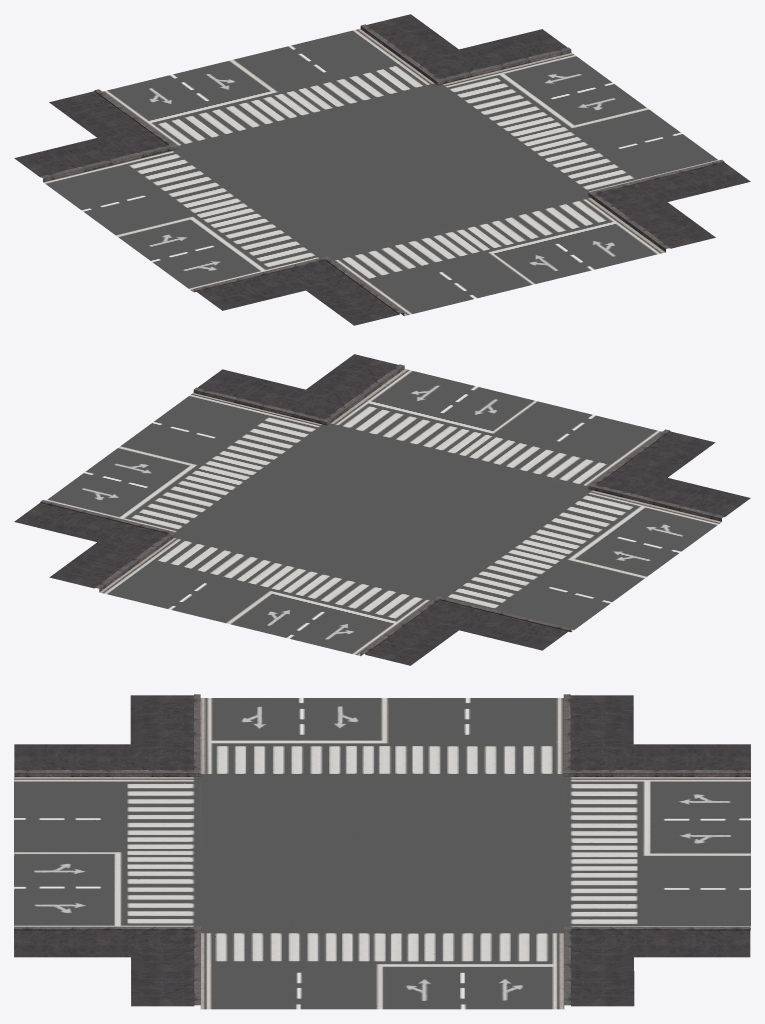
Rendered from 4 line cross intersection.FBX.
The picture shows the model from 3 angles, top to bottom: view 1: azimuth 30°, elevation 25°; view 2: azimuth 150°, elevation 25°; view 3: azimuth 270°, elevation 25°; orthographic projection. The views are drawn at different scales.
Parts seen in each view (by area): view 1: Object072; view 2: Object072; view 3: Object072.
Part boxes in pixels (bbox=[...]): Object072: bbox=[14, 14, 750, 325]; Object072: bbox=[14, 354, 750, 665]; Object072: bbox=[14, 694, 750, 1009].
Bounding box in the file's own units: 47.44 × 0.3187 × 47.45.
